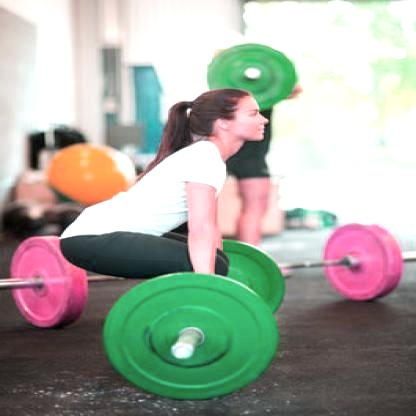Barbell: (158, 315, 216, 367)
